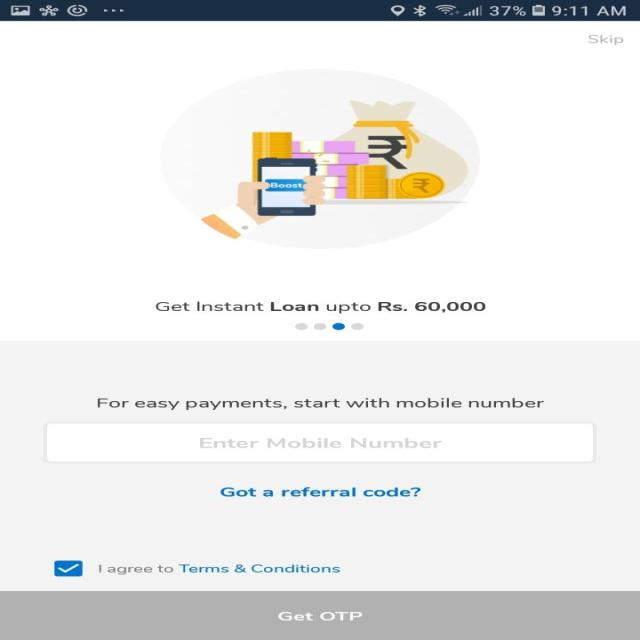EditText: (44, 422, 596, 464)
Image: (160, 69, 480, 249)
Text: (97, 397, 544, 410), (154, 300, 486, 314), (199, 437, 442, 448), (98, 564, 340, 574), (220, 486, 420, 496), (586, 34, 624, 46)
TextButton: (0, 590, 639, 640)
